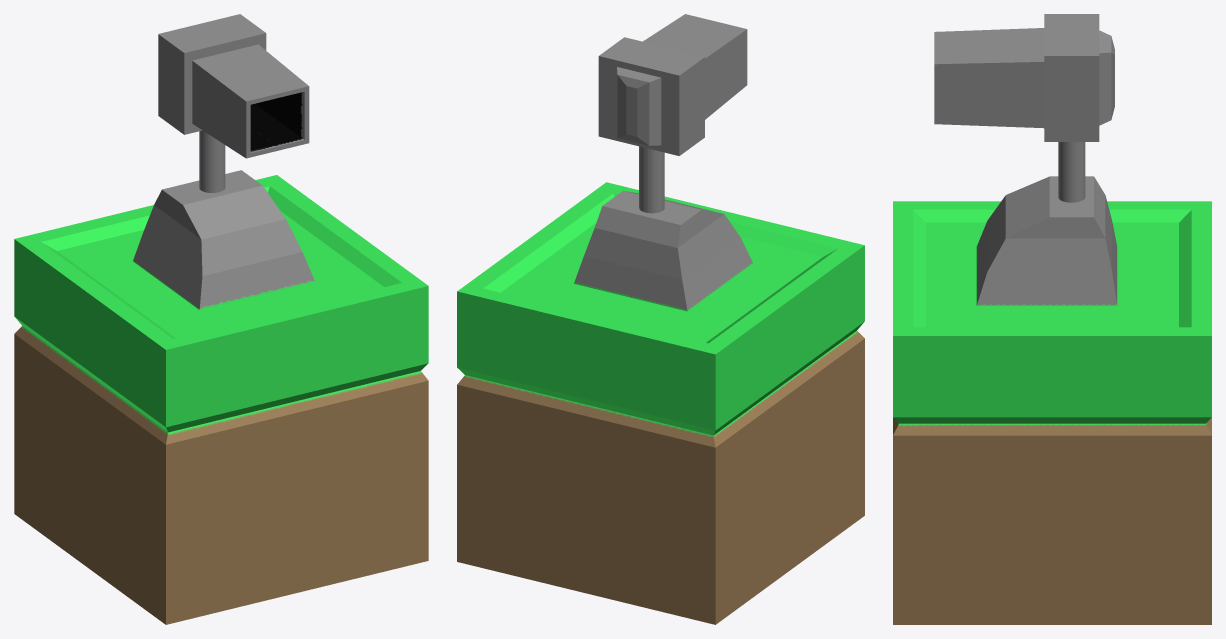
The model's file is Tile_Tower_3.fbx.
The picture shows the model from 3 angles, left to right: view 1: azimuth 30°, elevation 25°; view 2: azimuth 150°, elevation 25°; view 3: azimuth 270°, elevation 25°; orthographic projection. The views are drawn at different scales.
Parts seen in each view (by area): view 1: Base, Head; view 2: Base, Head; view 3: Base, Head.
Boxes of the visible parts, left/top/right/bottom form: Base: left=14, top=130, right=428, bottom=624; Head: left=158, top=14, right=309, bottom=158; Base: left=457, top=146, right=864, bottom=624; Head: left=598, top=14, right=747, bottom=155; Base: left=893, top=142, right=1211, bottom=624; Head: left=934, top=14, right=1114, bottom=141.
Bounding box in the file's own units: 200 × 362 × 200.
